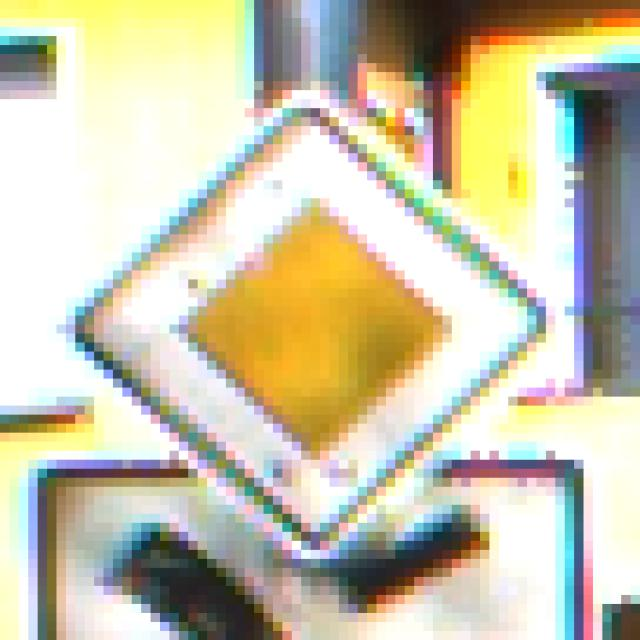Main Road: (58, 64, 585, 587)
